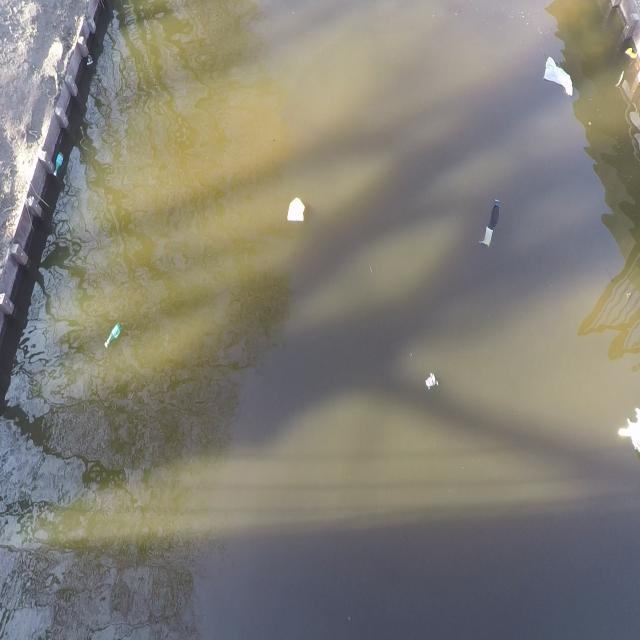Autre plastique: (285, 196, 315, 233)
Bouteille plastique: (101, 318, 126, 357)
Sac plastique: (542, 54, 575, 99)
